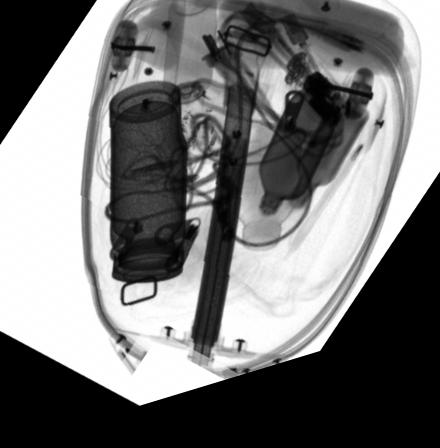Sprayer: (161, 0, 216, 131)
